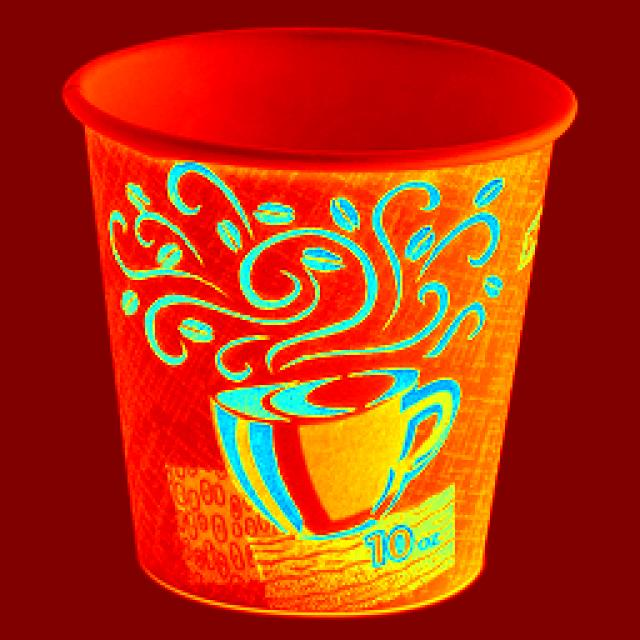Paper Cups: (55, 24, 542, 628)
